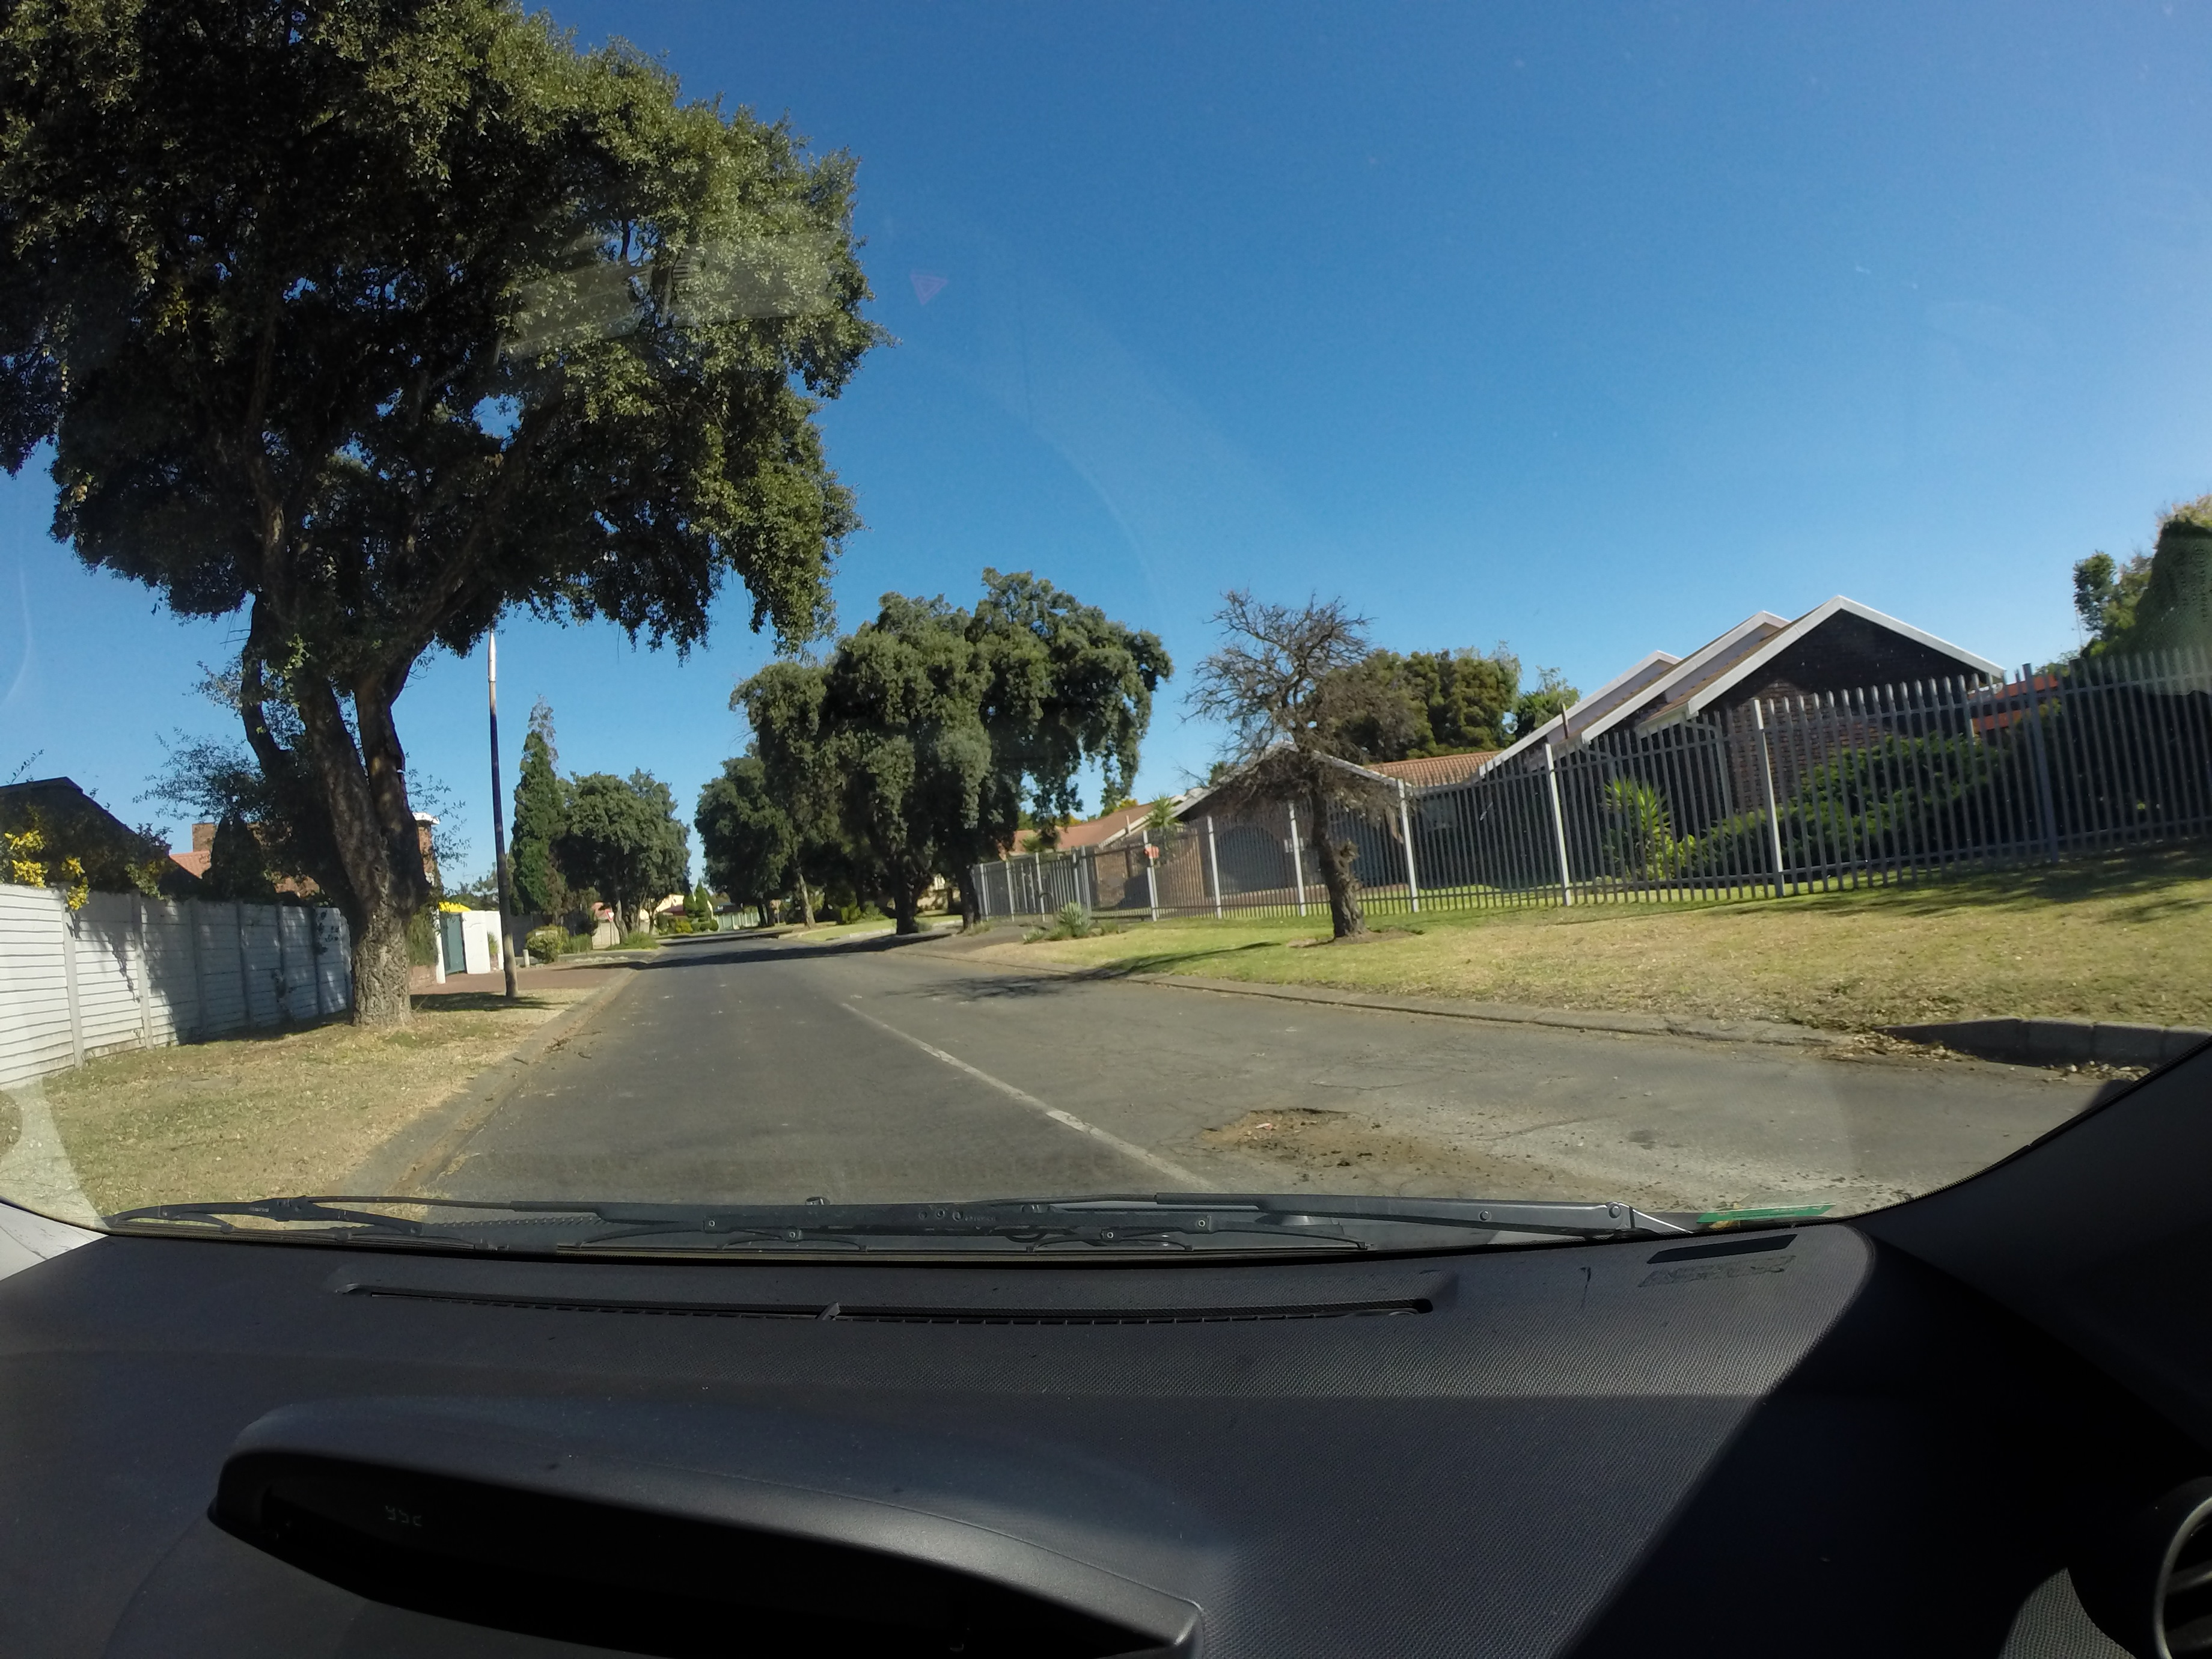pothole: (1042, 1086, 1599, 1202)
